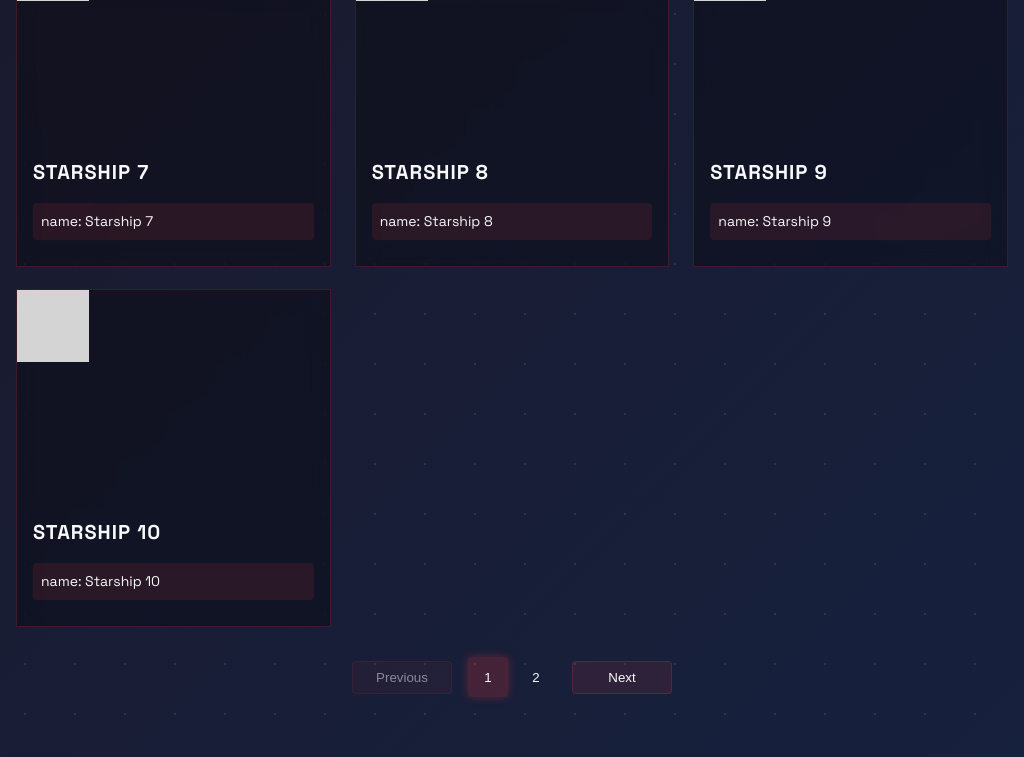
it: Page Component › should handle pagination
(page scrolled)
Expected: the heading "Starship 10" is shown, [33,520,161,546]
Click the button "Next". click: (622, 678)
box: [572,661,672,694]
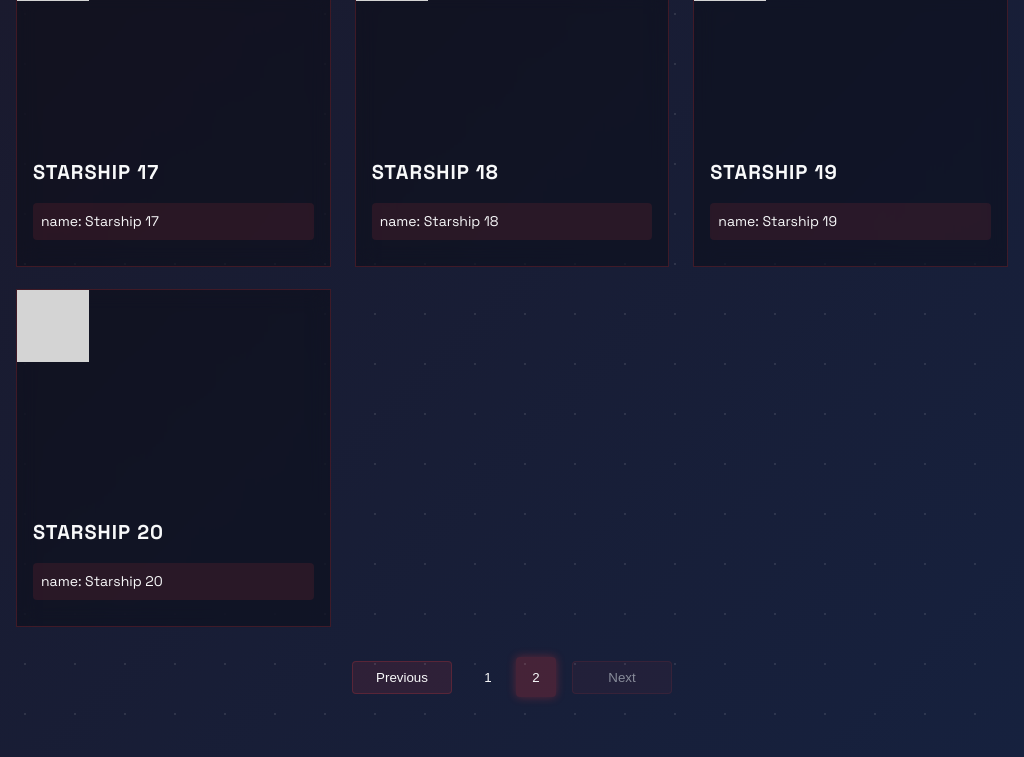
Expected: the heading "Starship 20" is shown, [33,520,164,546]
